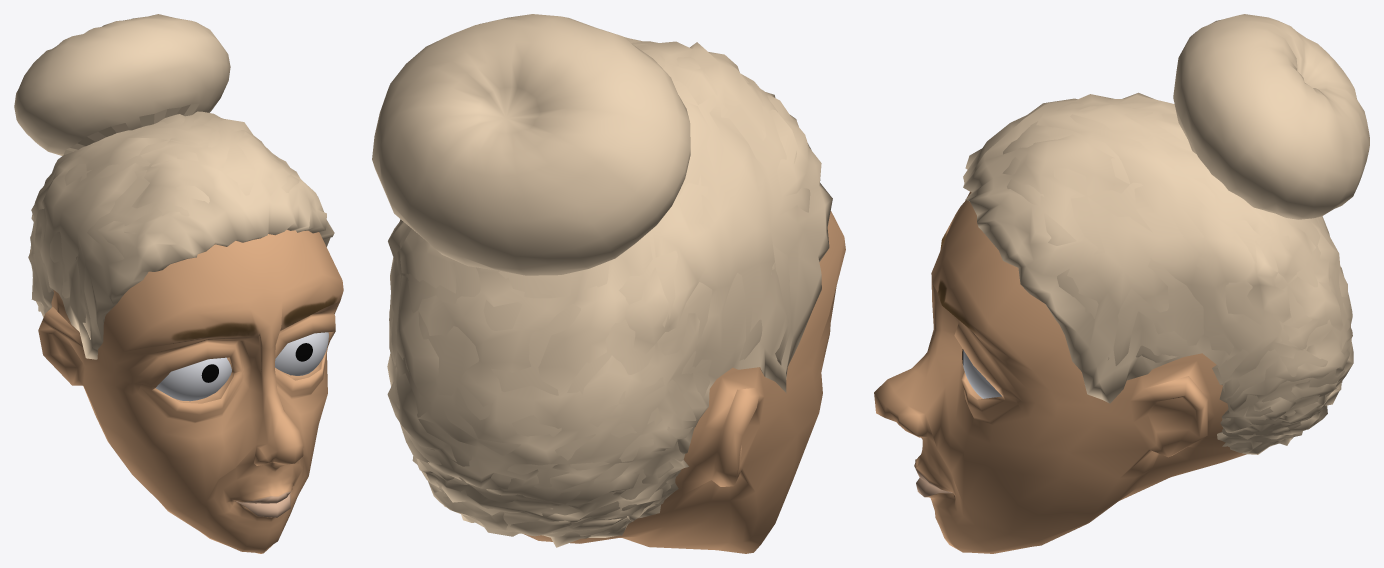
The picture shows the model from 3 angles, left to right: view 1: azimuth 30°, elevation 25°; view 2: azimuth 150°, elevation 25°; view 3: azimuth 270°, elevation 25°; orthographic projection. The views are drawn at different scales.
Parts seen in each view (by area): view 1: edward, hairsH, hairsF, right eye, left eye; view 2: hairsF, hairsH, edward; view 3: hairsH, edward, hairsF, left eye.
Part boxes in pixels (x1=…): edward: x1=38, y1=229, x2=343, y2=553; hairsH: x1=28, y1=111, x2=334, y2=359; hairsF: x1=14, y1=14, x2=299, y2=339; right eye: x1=156, y1=357, x2=231, y2=401; left eye: x1=275, y1=332, x2=328, y2=375; hairsF: x1=372, y1=14, x2=810, y2=536; hairsH: x1=387, y1=37, x2=832, y2=547; edward: x1=524, y1=210, x2=845, y2=553; hairsH: x1=963, y1=92, x2=1353, y2=454; edward: x1=874, y1=192, x2=1246, y2=553; hairsF: x1=1002, y1=14, x2=1369, y2=452; left eye: x1=962, y1=349, x2=1001, y2=398.
Size of the model in its own units: 186 by 326 by 285.
Materials: 7 (1 with a texture image).
